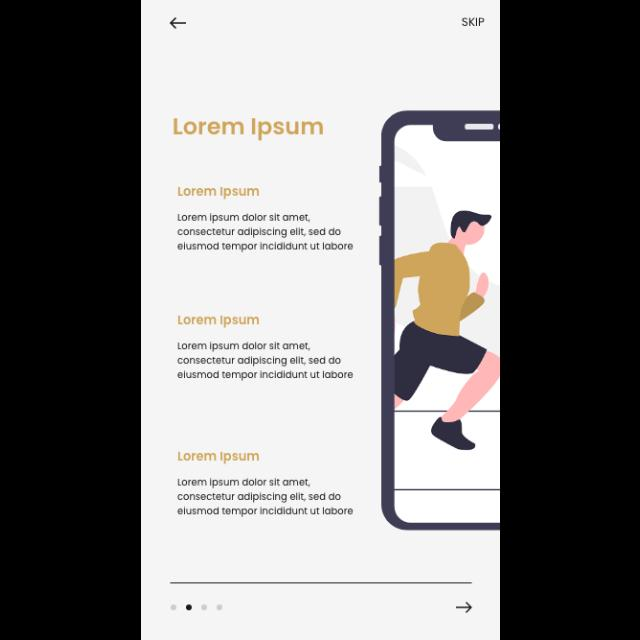icon: (170, 18, 186, 30), (456, 601, 472, 613)
image: (379, 110, 499, 530)
pageindicator: (170, 604, 223, 610)
text: (177, 213, 353, 253), (177, 342, 353, 382), (177, 478, 353, 518), (173, 118, 323, 142), (178, 315, 260, 329), (178, 188, 258, 200), (178, 452, 258, 464), (462, 18, 484, 28)
